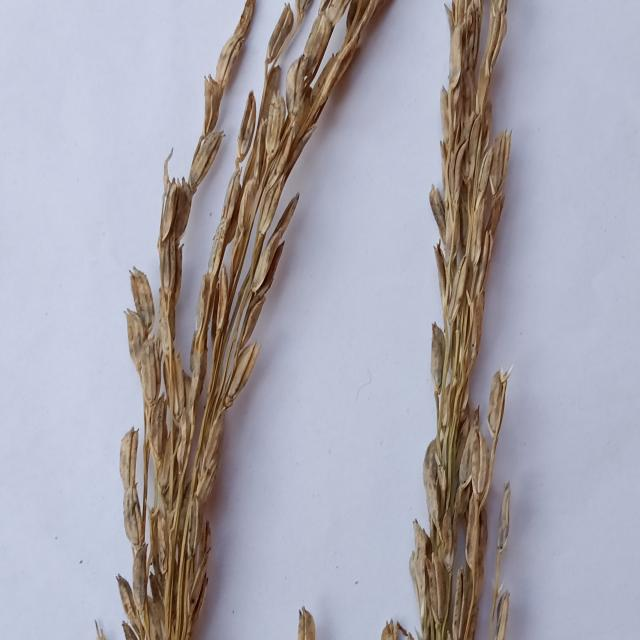Neck_Blast: (109, 0, 408, 636), (400, 0, 511, 640)
